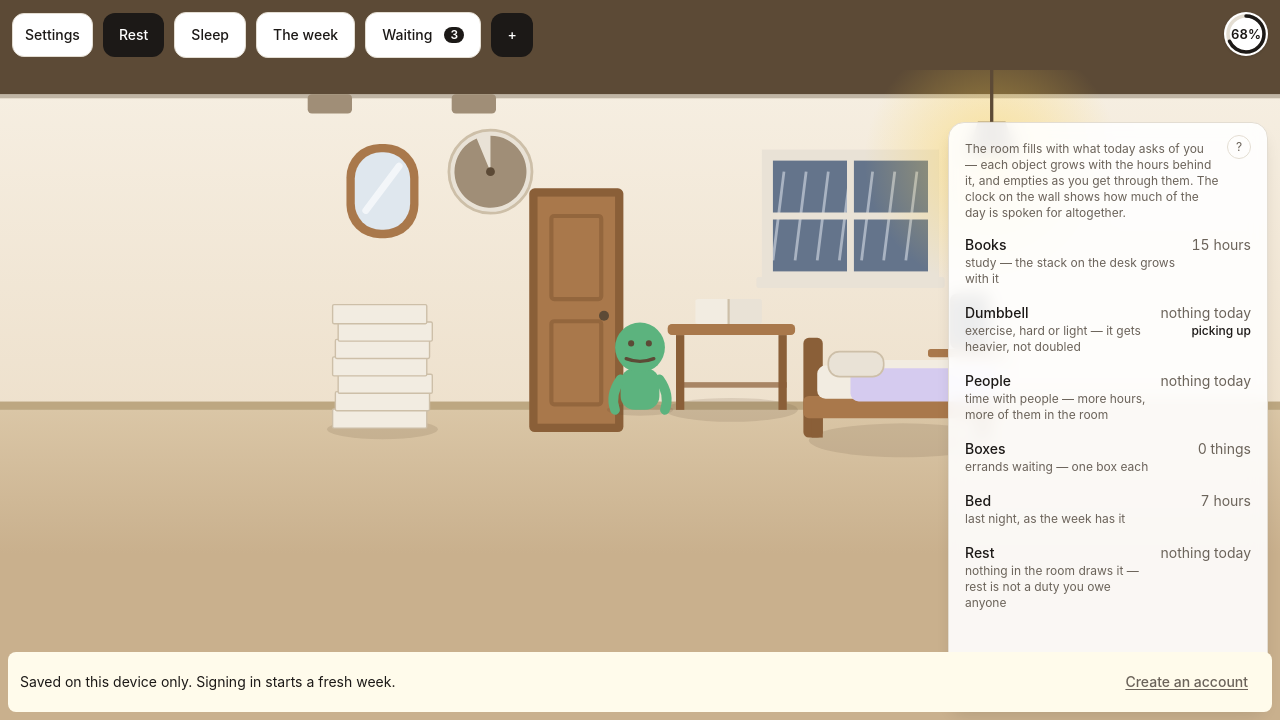
Test: the overfull day in the waiting sheet › lists what is standing on the day it names
Click the button with test id "open-notices".
click(423, 35)  # box [365,12,481,58]
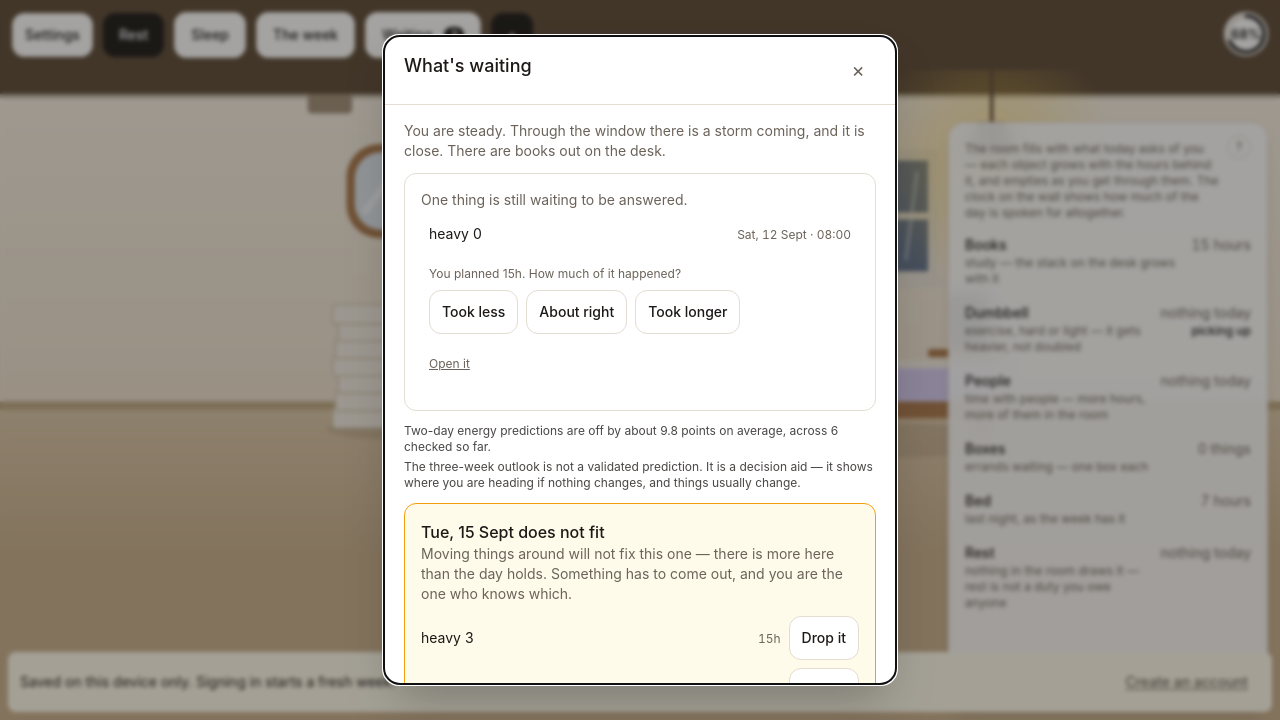
expect the text "heavy 3" is shown: met, box [421,628,474,648]
